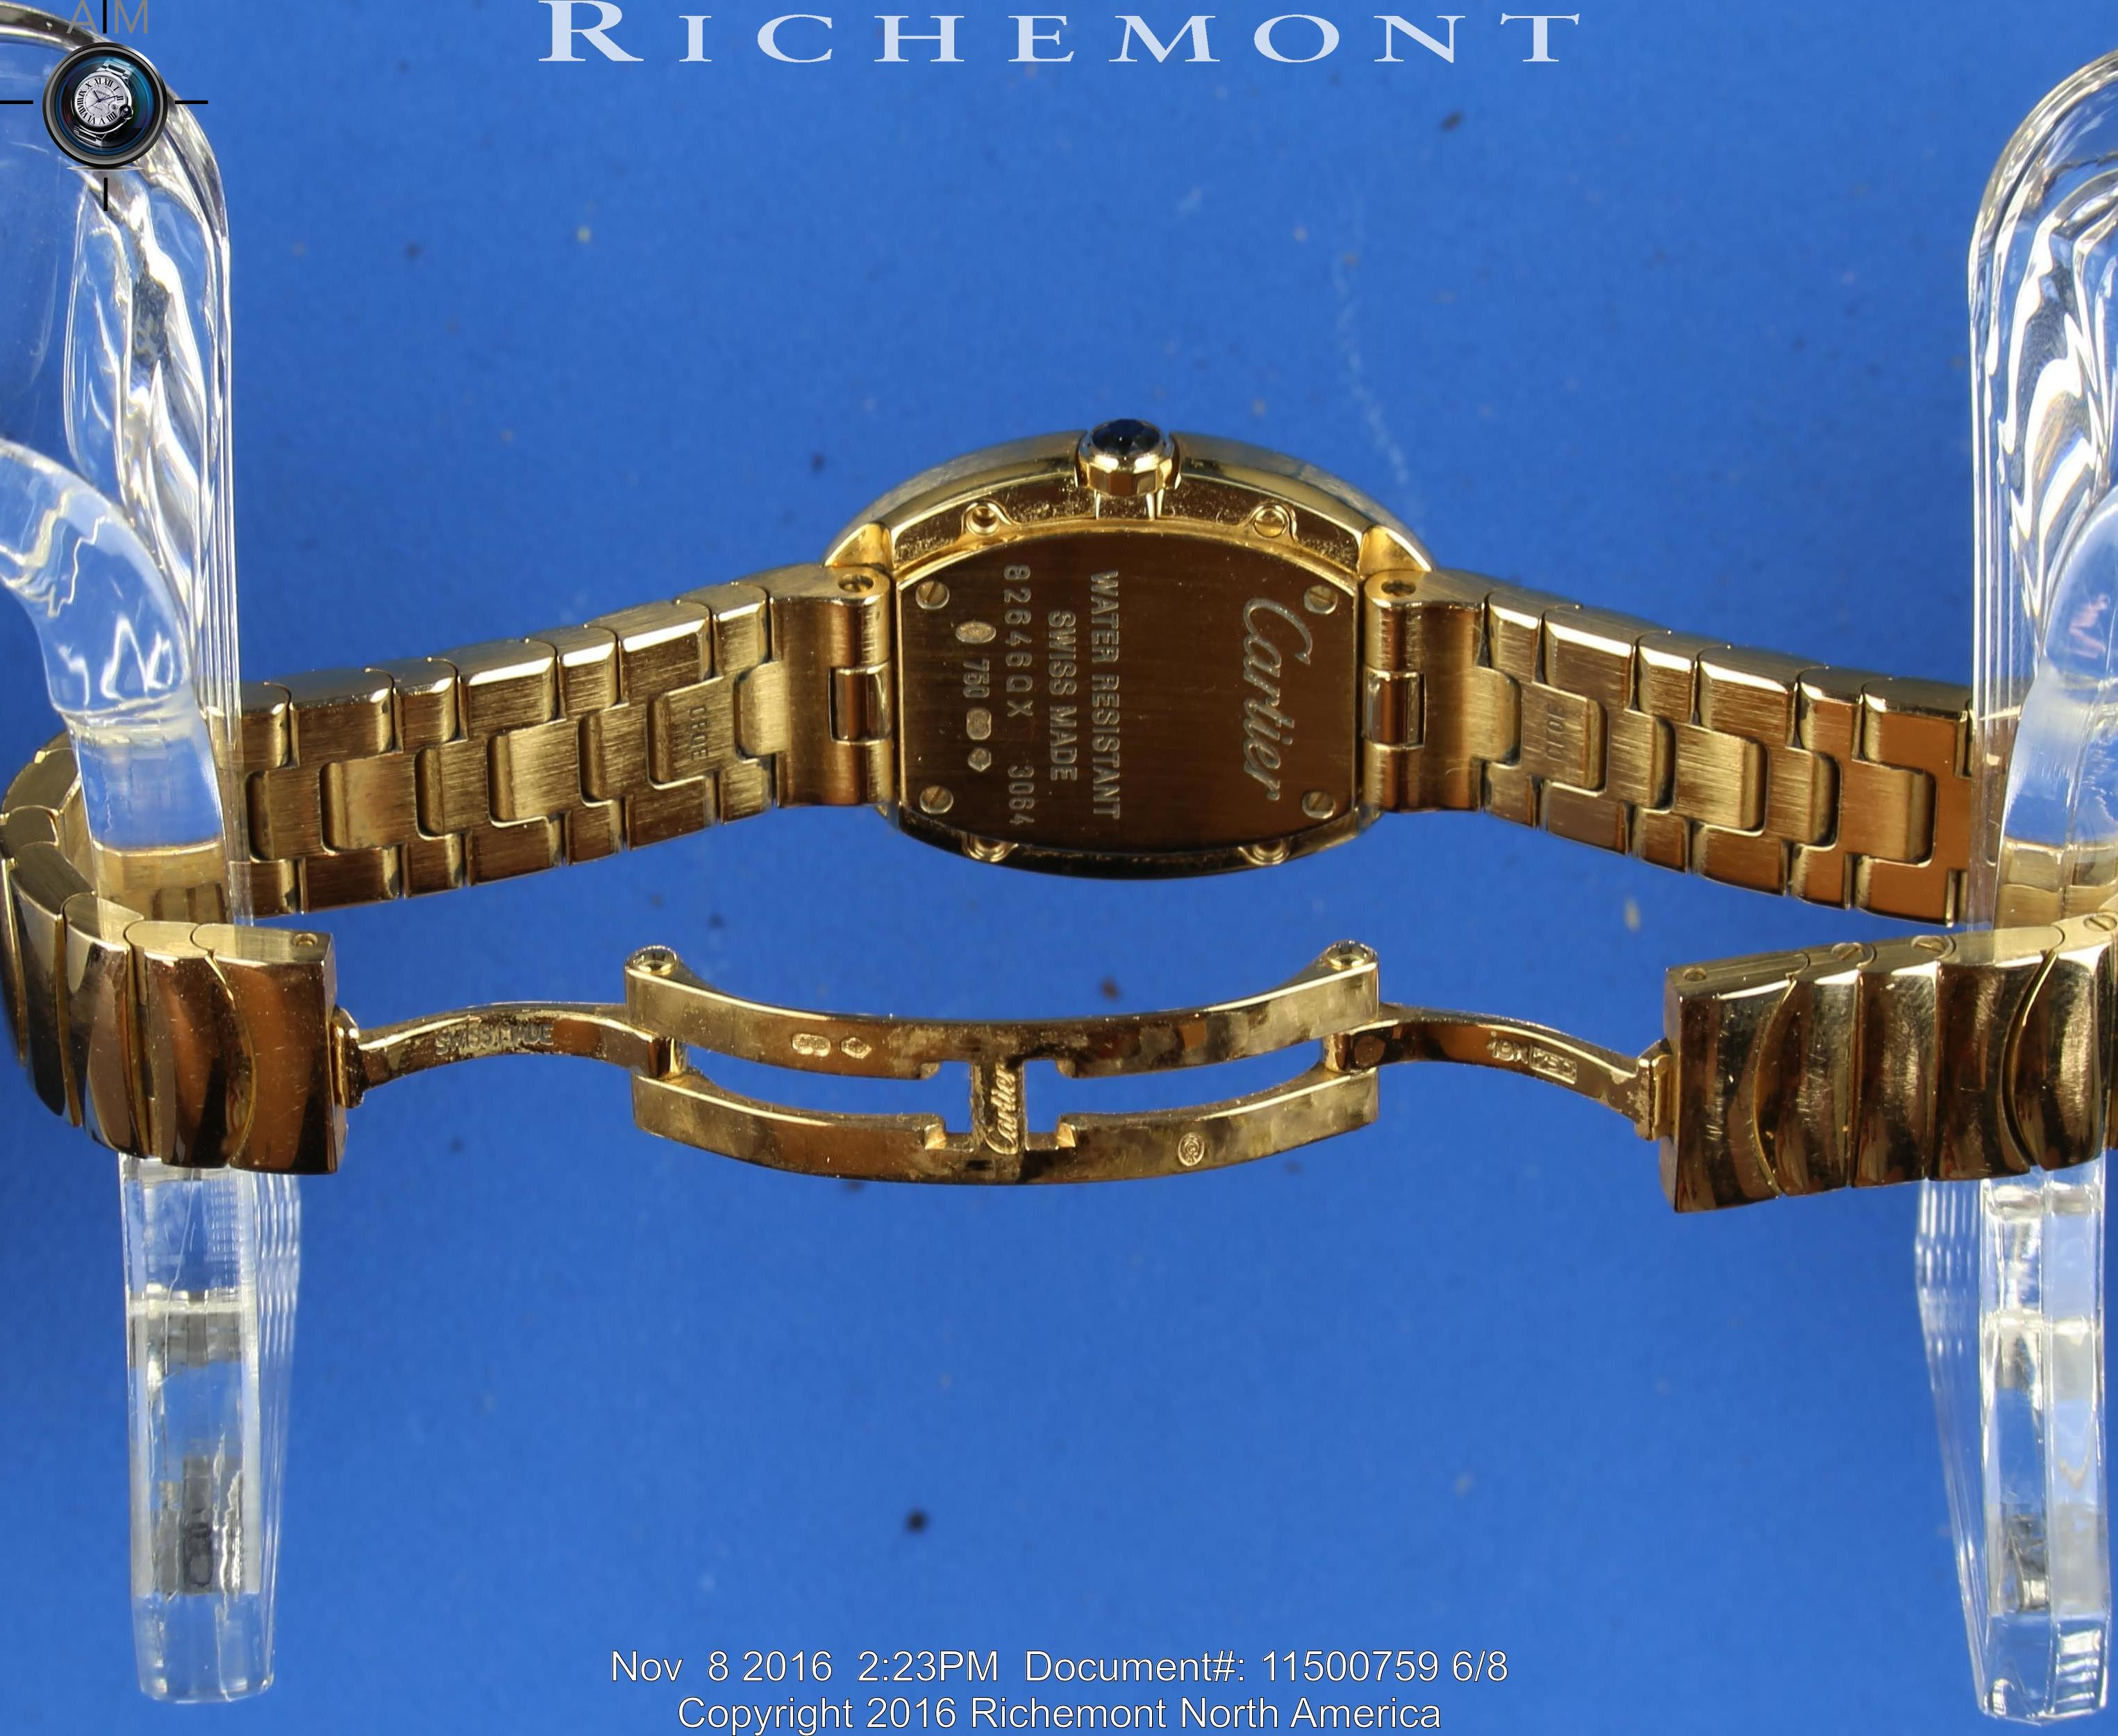Watch Back Case: (797, 392, 1485, 885)
